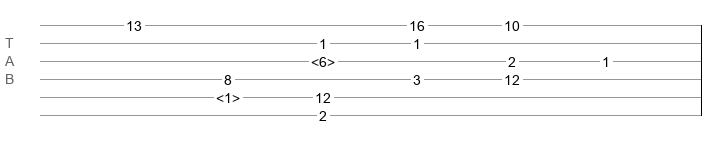1: (319, 36, 327, 46), (413, 36, 421, 46), (602, 54, 610, 64)
10: (504, 18, 520, 28)
12: (315, 90, 331, 100), (504, 72, 520, 82)
13: (126, 18, 142, 28)
16: (409, 18, 425, 28)
2: (319, 108, 327, 118), (508, 54, 516, 64)
3: (413, 72, 421, 82)
8: (224, 72, 232, 82)
harmonic: (216, 90, 240, 100), (311, 54, 335, 64)
